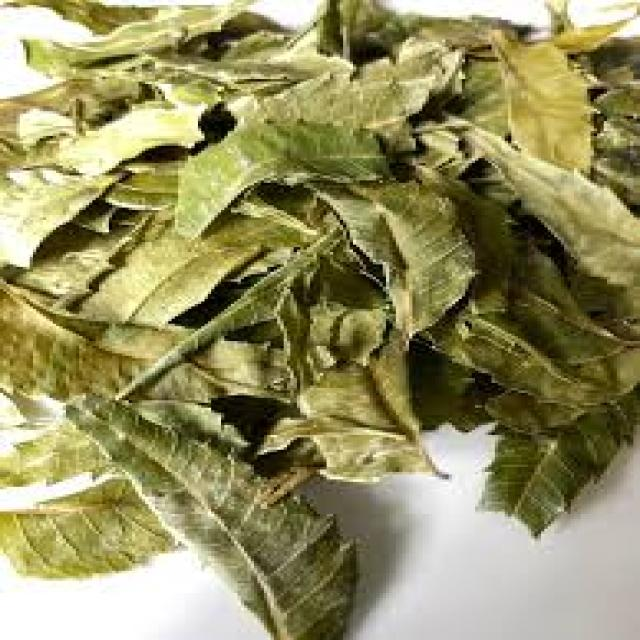Neem-Tree: (22, 28, 640, 440)
